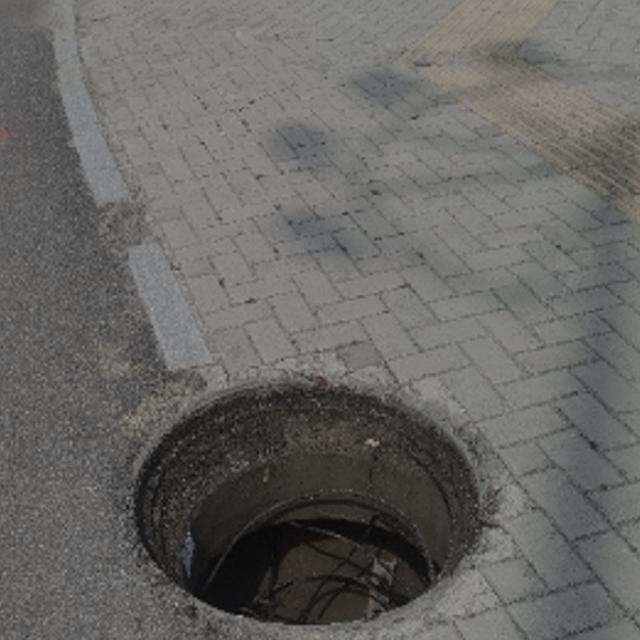lose: (122, 371, 493, 630)
